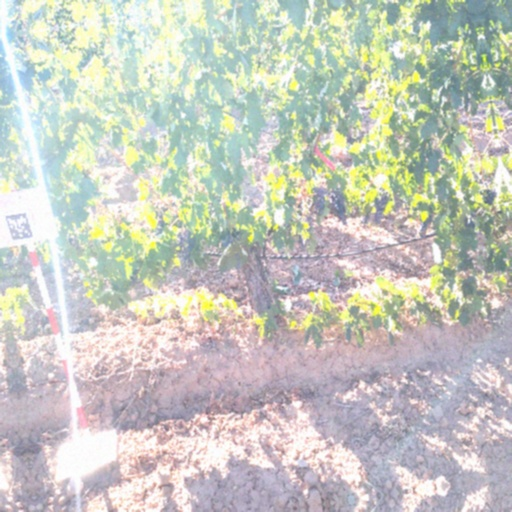QR: (5, 212, 34, 245)
